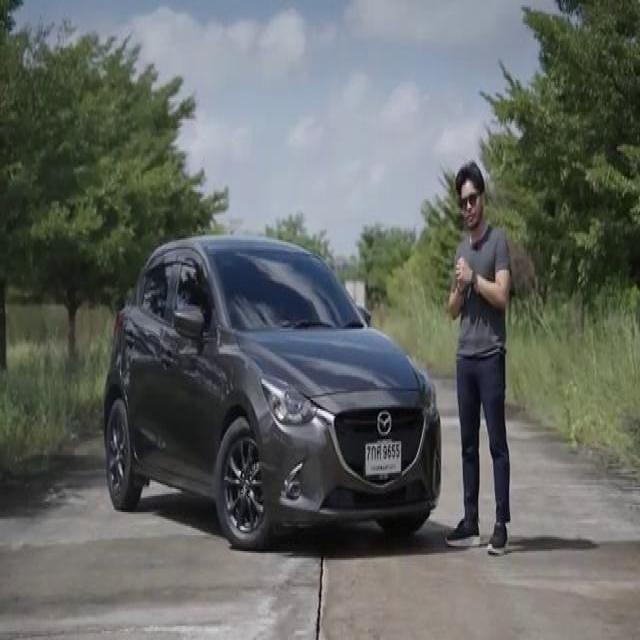Hatchback: (104, 236, 440, 549)
